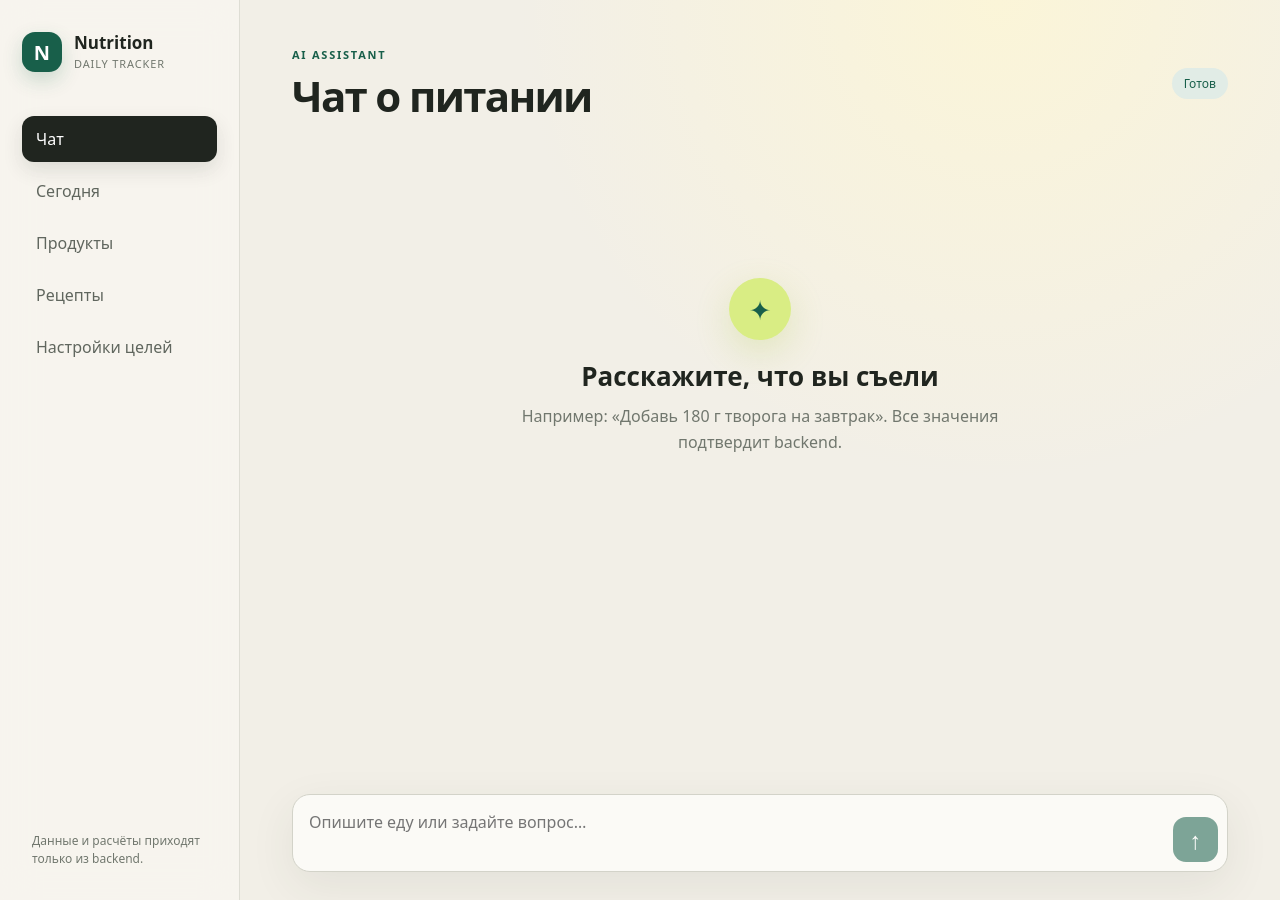
Test: основные пользовательские сценарии › показывает уточнение выбора продукта и принимает ответ новым сообщением
Type "Добавь йогурт" into the text box named "Сообщение" at (736, 833), box [309, 804, 1163, 862]
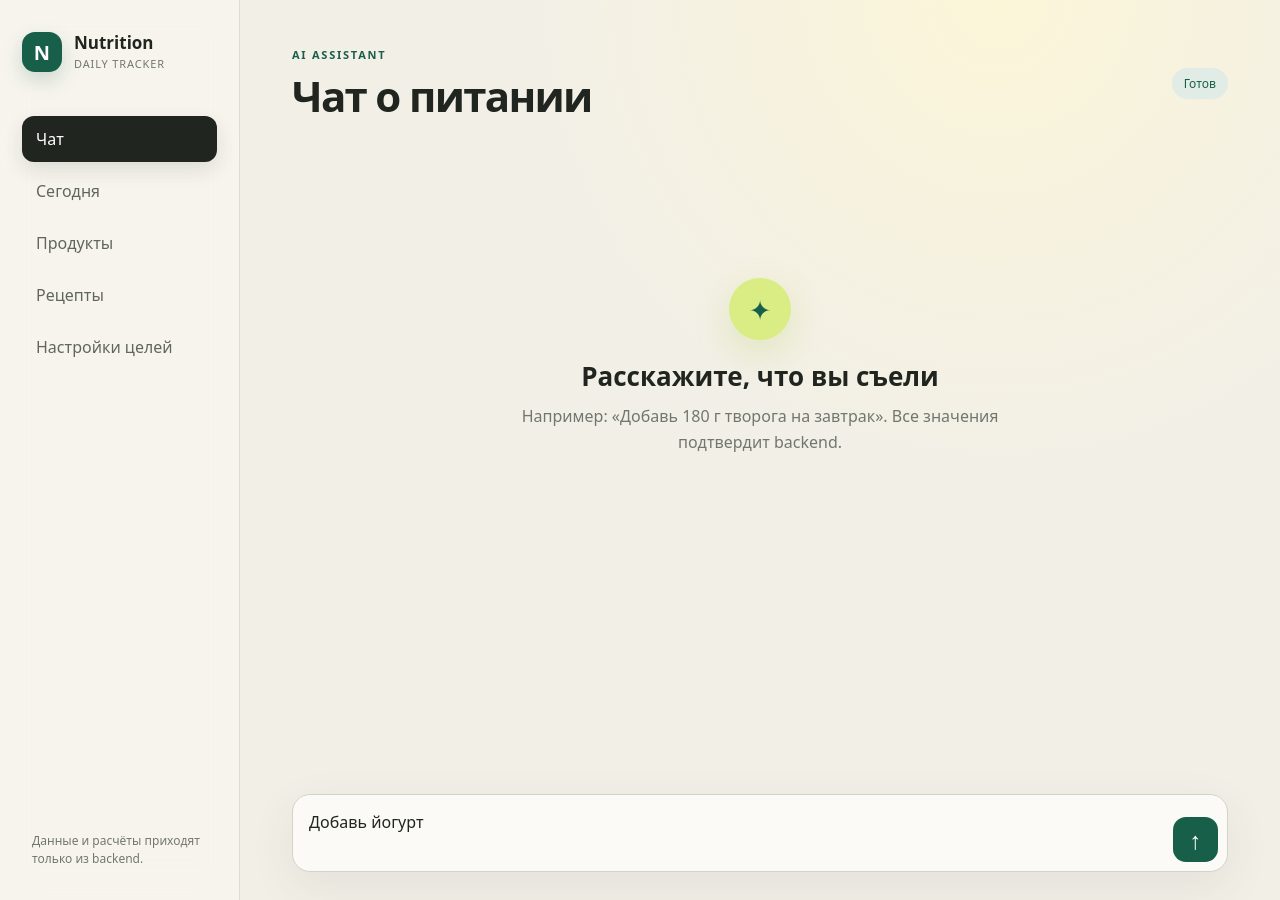
Click the button named "Отправить сообщение" at (1196, 840), box [1173, 817, 1218, 862]
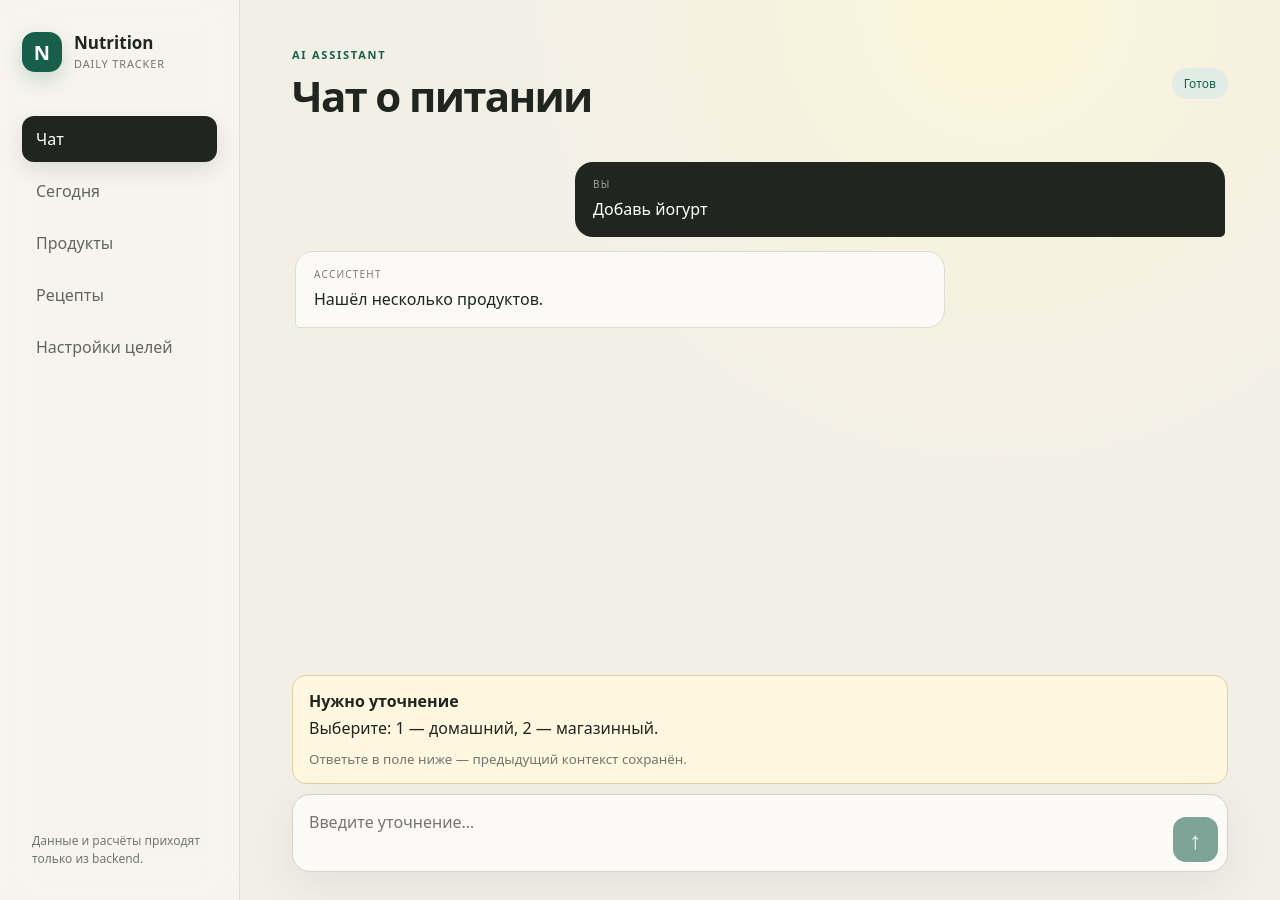
Result: the text "Выберите: 1 — домашний, 2 — магазинный." is shown at [309, 717, 658, 739]
Type "Вариант 2" into the text box named "Сообщение" at (736, 833), box [309, 804, 1163, 862]
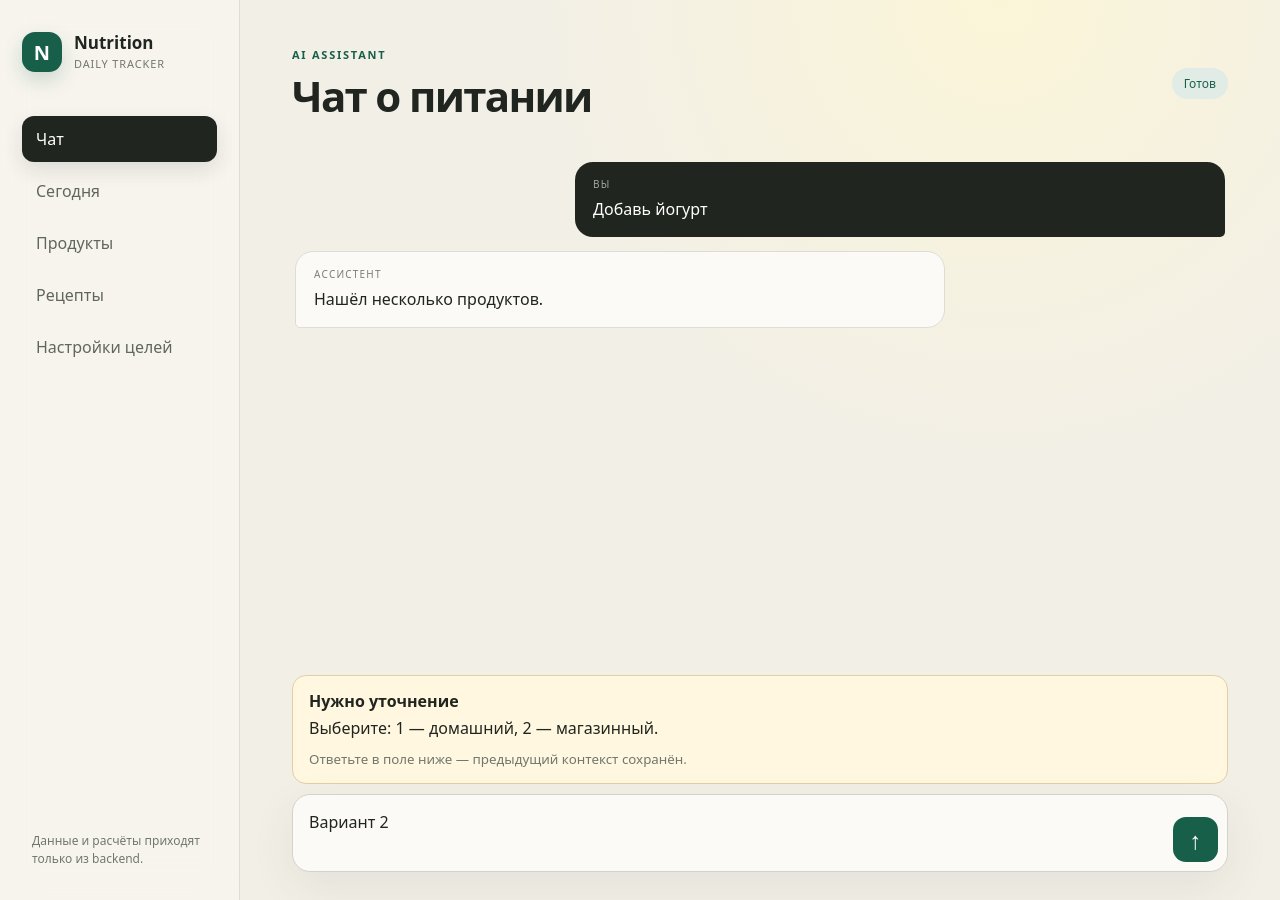
Click the button named "Отправить сообщение" at (1196, 840), box [1173, 817, 1218, 862]
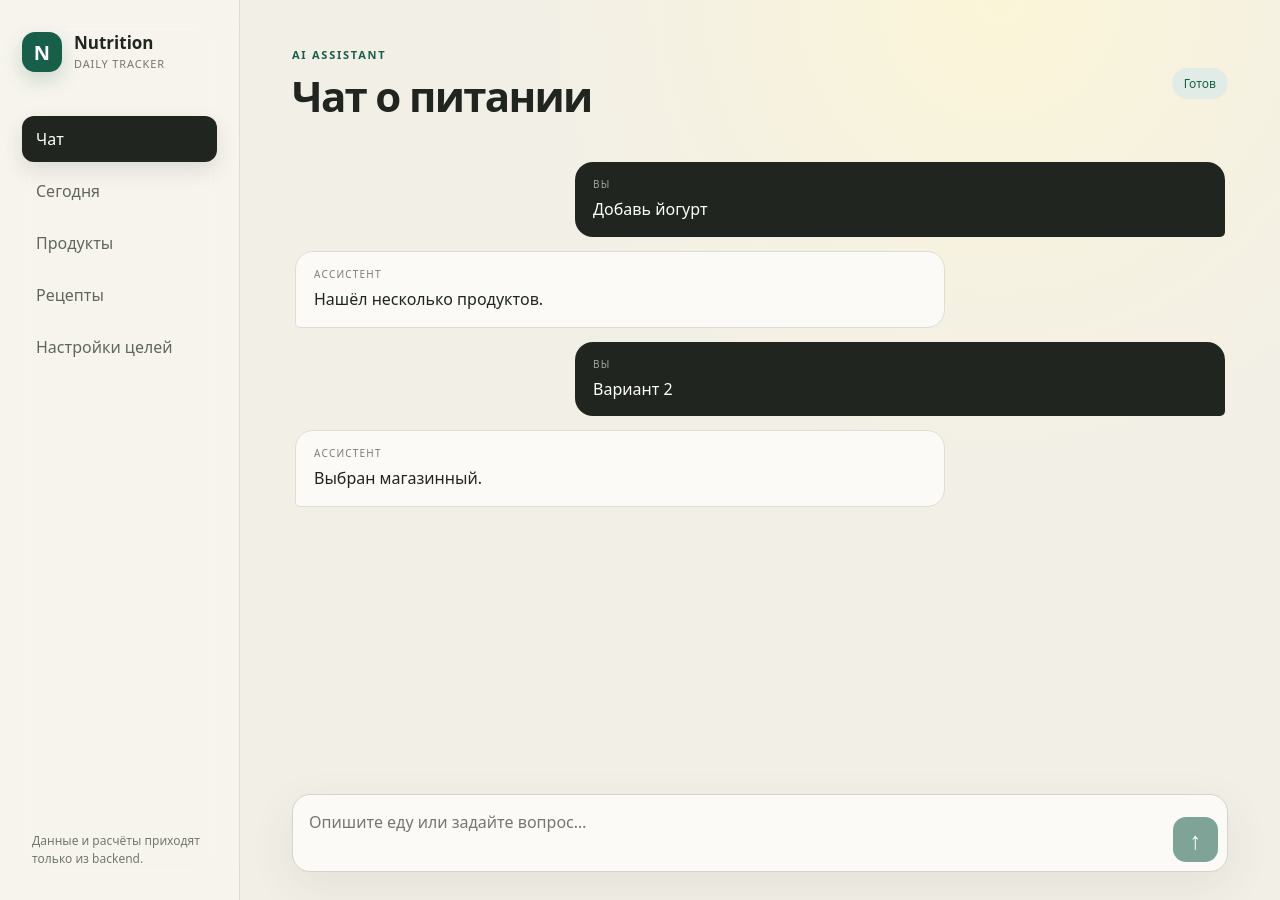
Result: the text "Выбран магазинный." is shown at [314, 467, 482, 489]
